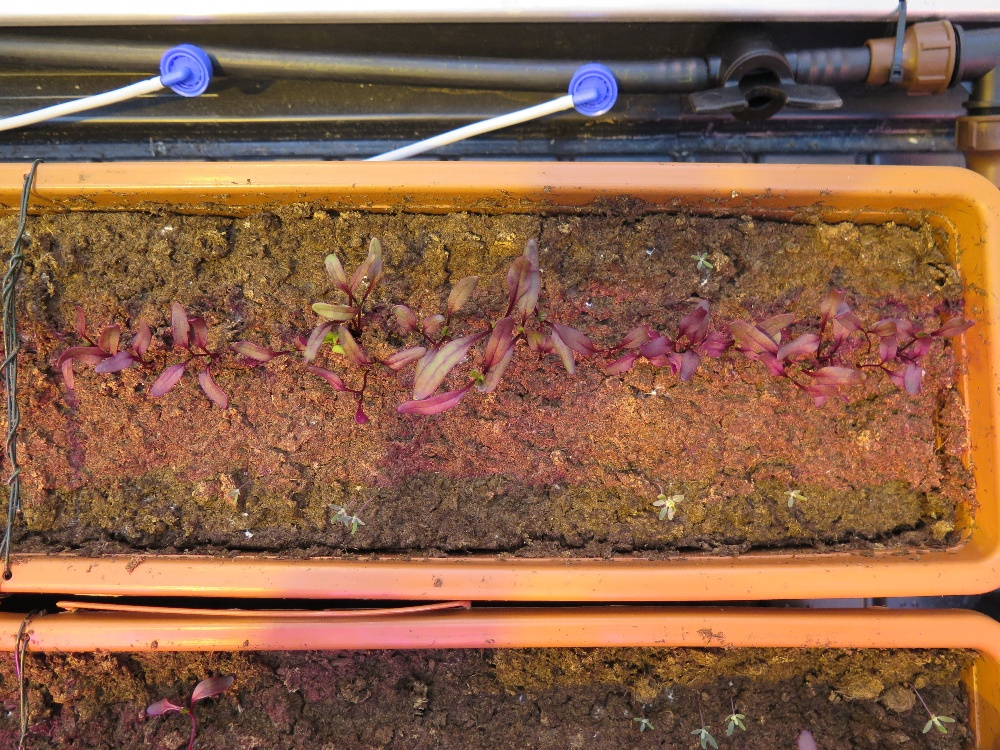crop: (671, 265, 889, 413), (534, 279, 730, 411), (437, 242, 591, 397), (839, 256, 987, 413), (232, 265, 375, 422), (318, 224, 439, 406), (375, 306, 527, 431), (132, 292, 259, 415), (146, 665, 264, 750), (41, 304, 139, 392), (789, 724, 855, 750)
weed: (318, 492, 382, 547), (637, 476, 696, 522), (918, 705, 966, 741), (684, 713, 730, 750), (718, 699, 757, 740), (684, 242, 725, 276), (780, 481, 809, 524), (623, 711, 666, 740)
